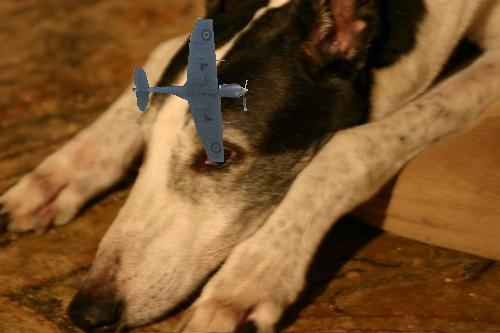tampered: (133, 19, 248, 162)
